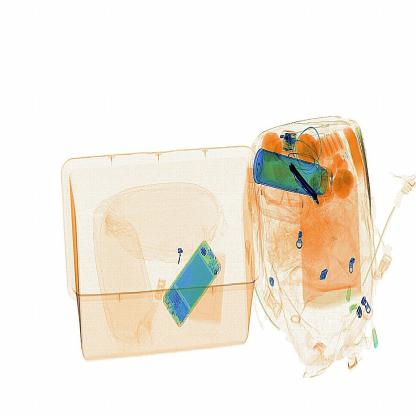knife: (294, 167, 322, 201)
